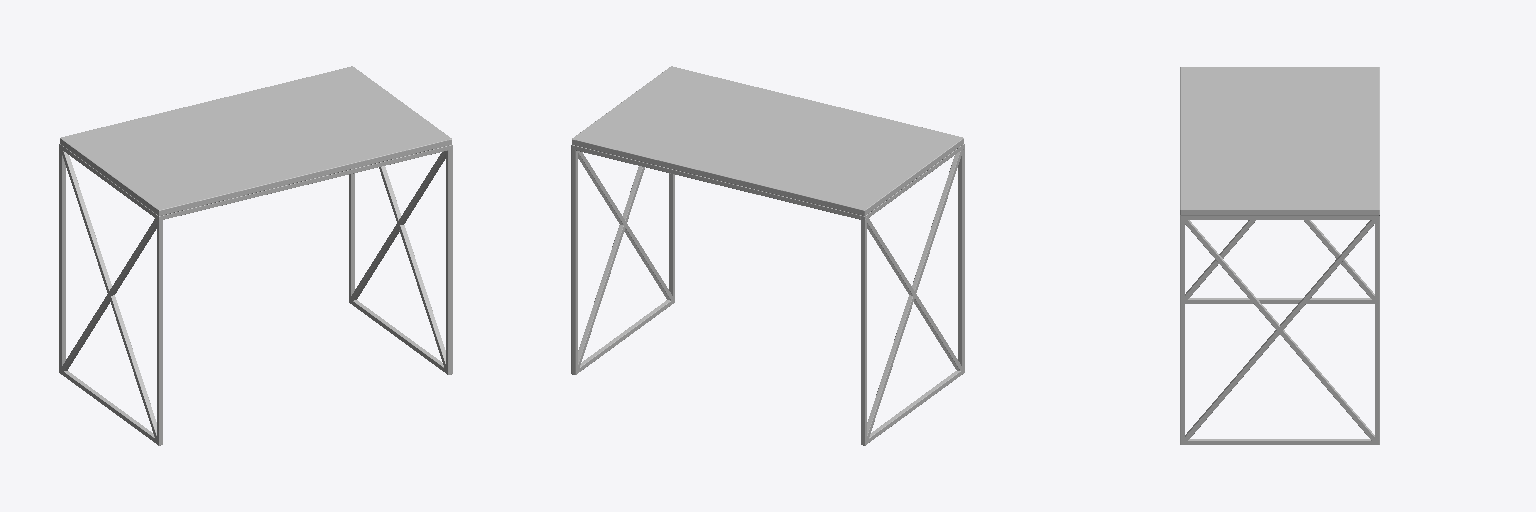
The model's file is table1.obj.
The picture shows the model from 3 angles: view 1: azimuth 30°, elevation 25°; view 2: azimuth 150°, elevation 25°; view 3: azimuth 270°, elevation 25°; orthographic projection.
Visible parts, largest first — view 1: table0:Box075, table0:Box076; view 2: table0:Box075, table0:Box076; view 3: table0:Box075, table0:Box076.
Boxes of the visible parts, <box> form: table0:Box075: <box>60,66,451,215</box>; table0:Box076: <box>59,144,452,445</box>; table0:Box075: <box>572,66,963,215</box>; table0:Box076: <box>571,144,964,445</box>; table0:Box075: <box>1180,67,1379,215</box>; table0:Box076: <box>1180,216,1379,444</box>.
Size of the model in its own units: 102 by 78.2 by 60.